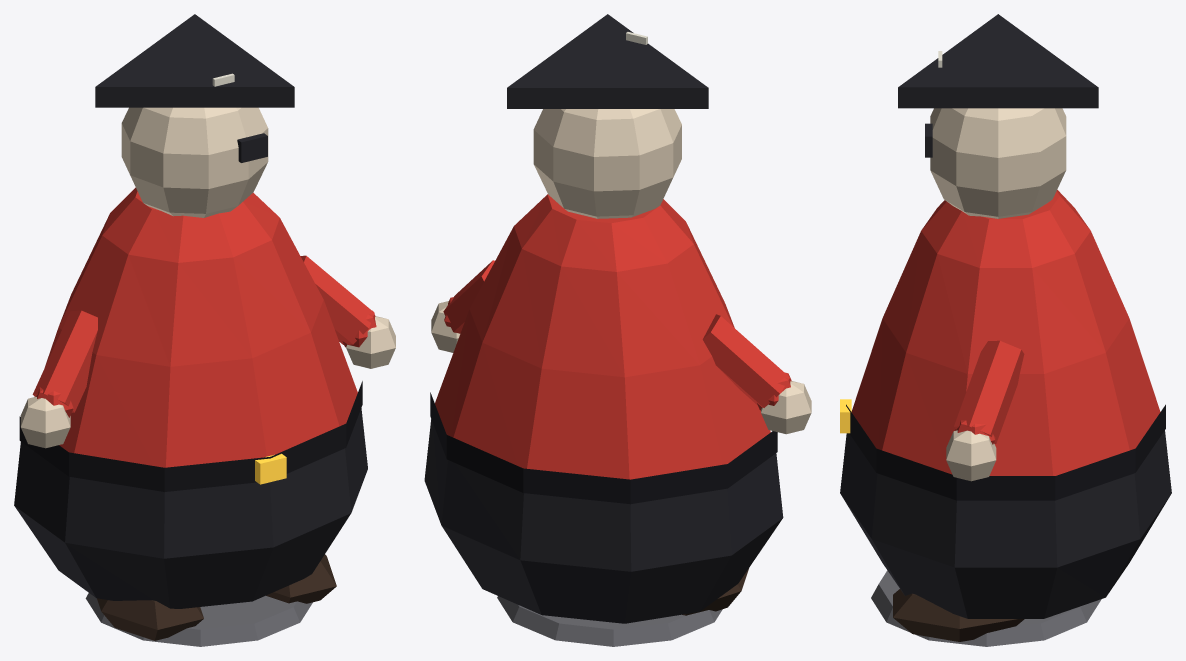
File: mannequin_pirate.glb
The picture shows the model from 3 angles, left to right: view 1: azimuth 30°, elevation 25°; view 2: azimuth 150°, elevation 25°; view 3: azimuth 270°, elevation 25°; orthographic projection.
Parts seen in each view (by area): view 1: body_pirate_shirt, body_pirate_pants, head_mannequin_plastic, hat_pirate_hat, body_black, arms_pirate_shirt, stand_mannequin_stand, legs_pirate_boots, arms_mannequin_plastic, body_gold, patch_pirate_hat; view 2: body_pirate_shirt, body_pirate_pants, head_mannequin_plastic, hat_pirate_hat, body_black, arms_pirate_shirt, stand_mannequin_stand, arms_mannequin_plastic; view 3: body_pirate_shirt, body_pirate_pants, head_mannequin_plastic, hat_pirate_hat, body_black, arms_pirate_shirt, stand_mannequin_stand, legs_pirate_boots, arms_mannequin_plastic.
Part boxes in pixels (x1,y1,x2,y2): body_pirate_shirt: (45, 187, 357, 467); body_pirate_pants: (14, 408, 367, 608); head_mannequin_plastic: (121, 107, 268, 217); hat_pirate_hat: (95, 14, 294, 107); body_black: (19, 381, 362, 491); arms_pirate_shirt: (32, 255, 376, 417); stand_mannequin_stand: (85, 593, 312, 646); legs_pirate_boots: (97, 554, 336, 640); arms_mannequin_plastic: (20, 316, 395, 448); body_gold: (255, 453, 286, 484); patch_pirate_hat: (237, 133, 267, 162); body_pirate_shirt: (435, 194, 770, 479); body_pirate_pants: (424, 419, 783, 623); head_mannequin_plastic: (533, 109, 681, 218); hat_pirate_hat: (507, 14, 708, 108); body_black: (430, 392, 777, 504); arms_pirate_shirt: (443, 260, 791, 410); stand_mannequin_stand: (497, 596, 722, 646); arms_mannequin_plastic: (431, 301, 811, 434); body_pirate_shirt: (851, 190, 1160, 475); body_pirate_pants: (840, 430, 1171, 618); head_mannequin_plastic: (930, 108, 1066, 218); hat_pirate_hat: (898, 14, 1098, 108); body_black: (846, 404, 1165, 500); arms_pirate_shirt: (954, 340, 1024, 444); stand_mannequin_stand: (871, 570, 1101, 646); legs_pirate_boots: (893, 589, 1024, 641); arms_mannequin_plastic: (946, 430, 996, 481).
Bounding box in the file's own units: 1.13 × 1.56 × 0.86.
